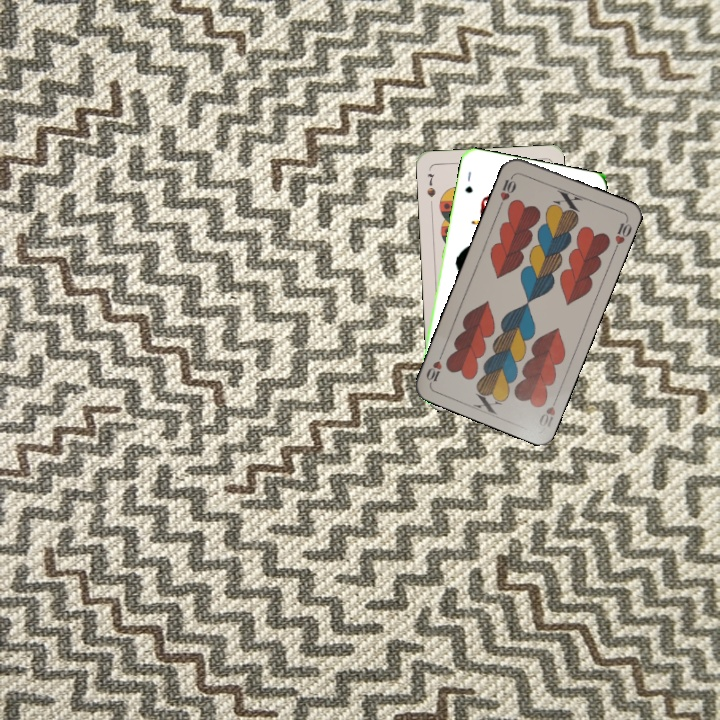GU: (461, 167, 475, 196)
H10: (535, 392, 562, 430), (495, 171, 519, 210)
S7: (423, 169, 438, 200)
